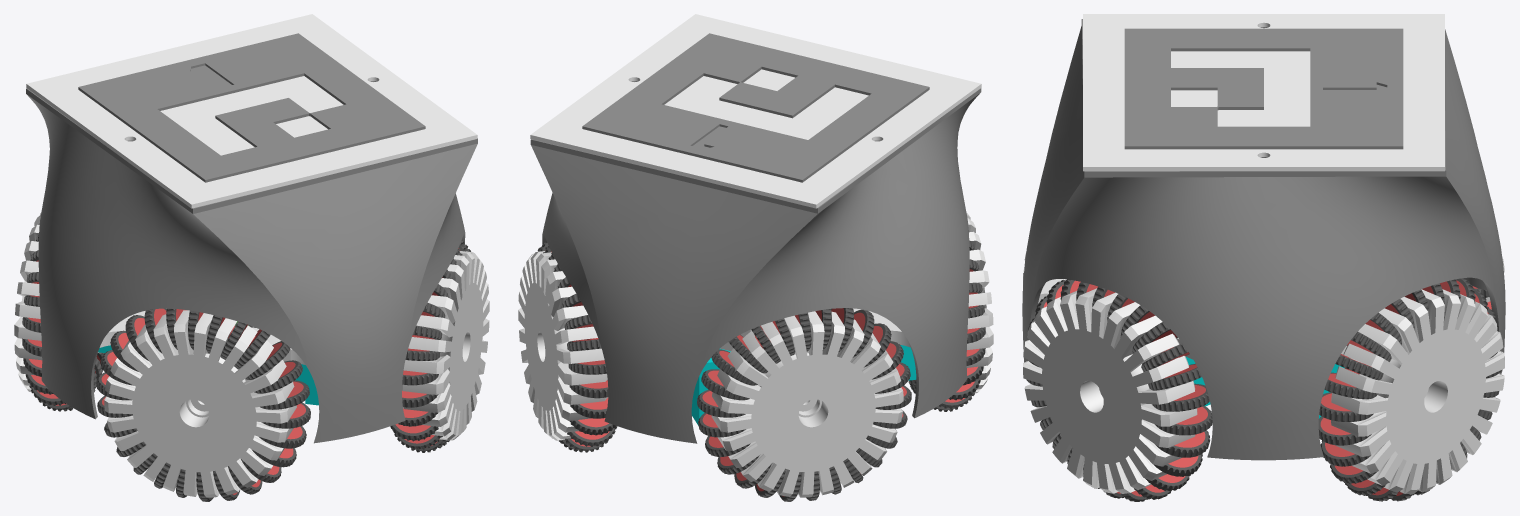
File: omnidirectional-v1.glb
3 views of the same model, side by side, from view 1: azimuth 30°, elevation 25°; view 2: azimuth 150°, elevation 25°; view 3: azimuth 270°, elevation 25° (orthographic). The views are drawn at different scales.
Parts seen in each view (by area): view 1: coverOmni-1, aruco1-1, omniwheel-1 (×3), plateOmni-1; view 2: coverOmni-1, aruco1-1, omniwheel-1 (×3), plateOmni-1; view 3: coverOmni-1, aruco1-1, omniwheel-1 (×2), wheelOring-21, wheelOring-22, wheelOring-20, wheelOring-10, wheelOring-9, wheelOring-19.
Boxes of the visible parts, x1,y1,x2,y2 form: coverOmni-1: (26, 81, 477, 443); aruco1-1: (26, 14, 477, 208); omniwheel-1 (×3): (14, 213, 489, 497); plateOmni-1: (99, 311, 305, 364); coverOmni-1: (530, 81, 981, 443); aruco1-1: (530, 14, 981, 208); omniwheel-1 (×3): (518, 213, 993, 497); plateOmni-1: (720, 308, 910, 352); coverOmni-1: (1022, 19, 1505, 460); aruco1-1: (1083, 14, 1444, 171); omniwheel-1 (×2): (1023, 288, 1504, 493); wheelOring-21: (1152, 383, 1209, 411); wheelOring-22: (1155, 405, 1212, 435); wheelOring-20: (1148, 363, 1201, 390); wheelOring-10: (1324, 372, 1377, 399); wheelOring-9: (1319, 392, 1373, 421); wheelOring-19: (1141, 343, 1189, 372).
Size of the model in its own units: 0.1509 by 0.1192 by 0.1509.
